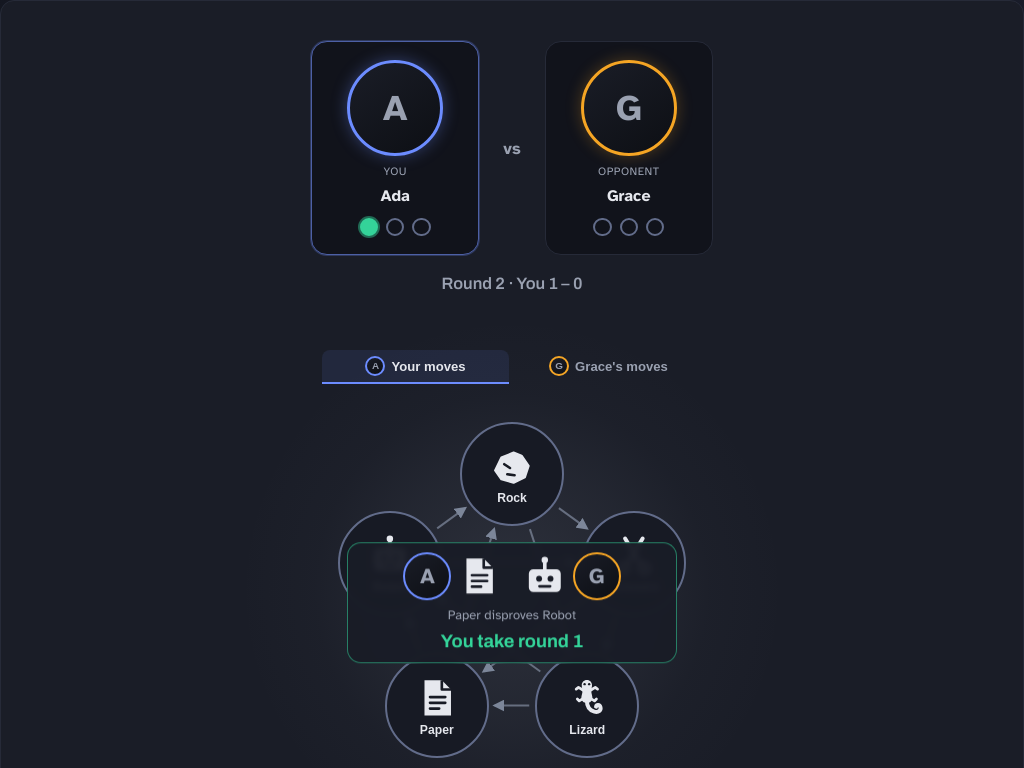
Scenario: <Board> round reveal (JQ 3.1) › skipping ends the outro too
Click the button named "skip" at (512,603), box [348,543,676,662]
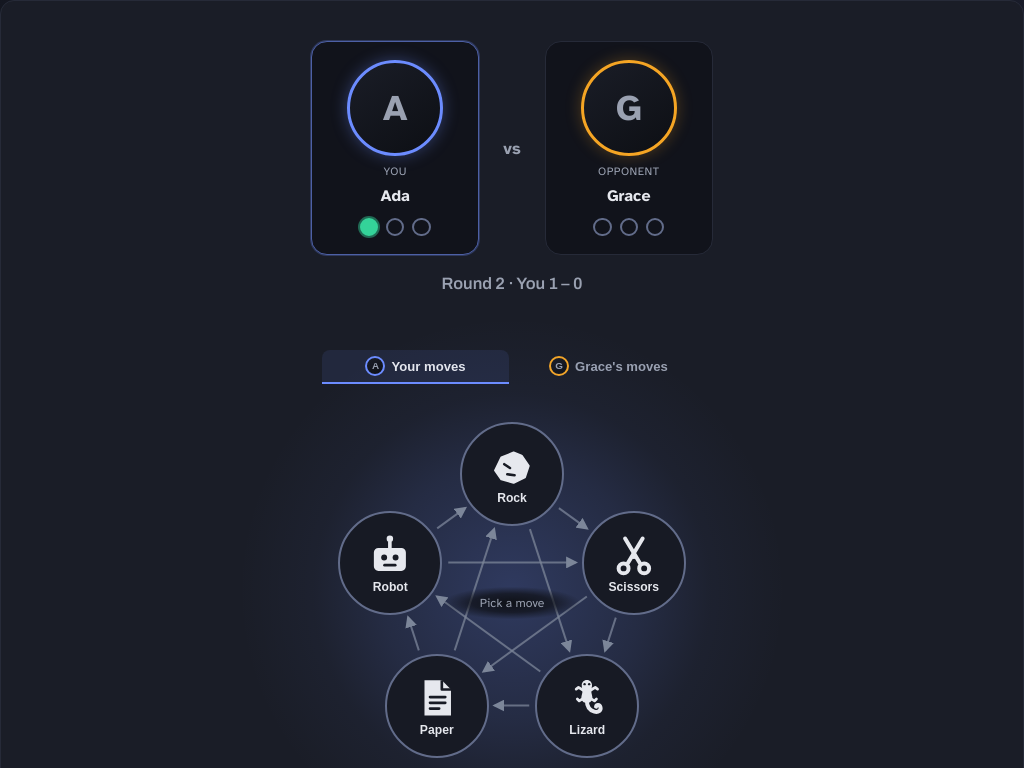
Expected: the element with class "reveal-card" is gone
